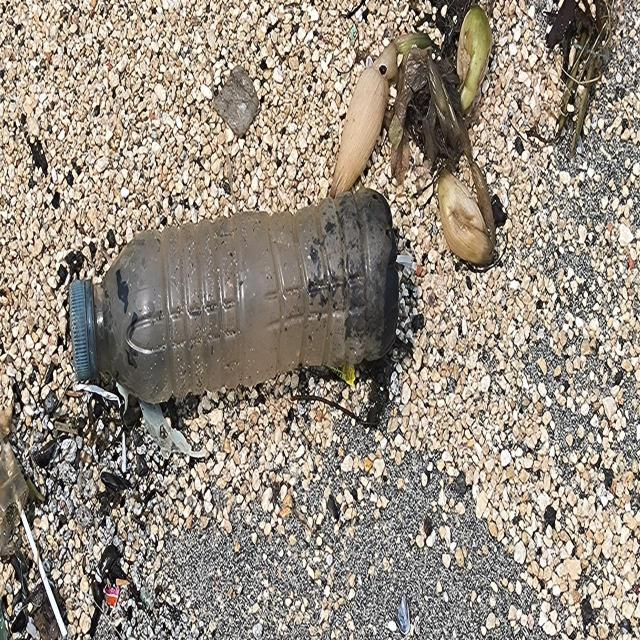plastic_waste: (70, 188, 400, 406), (20, 500, 76, 638)
